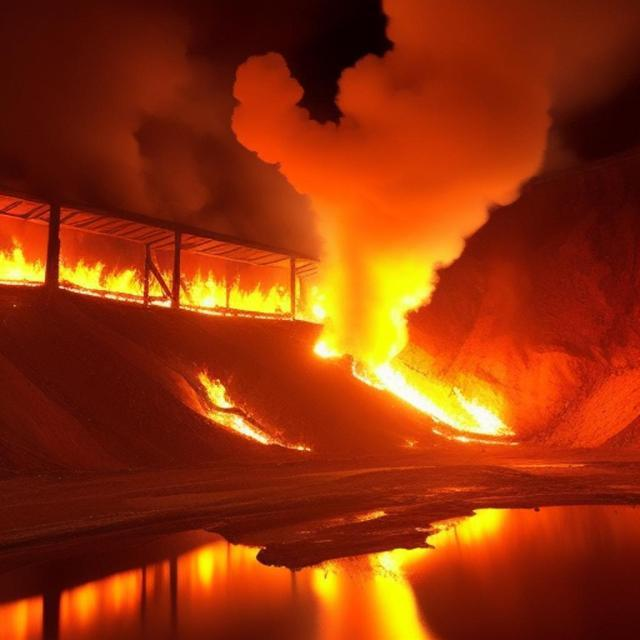Fire: (324, 289, 528, 442), (4, 233, 312, 330), (192, 369, 298, 459)
Smoke: (228, 0, 626, 255)
